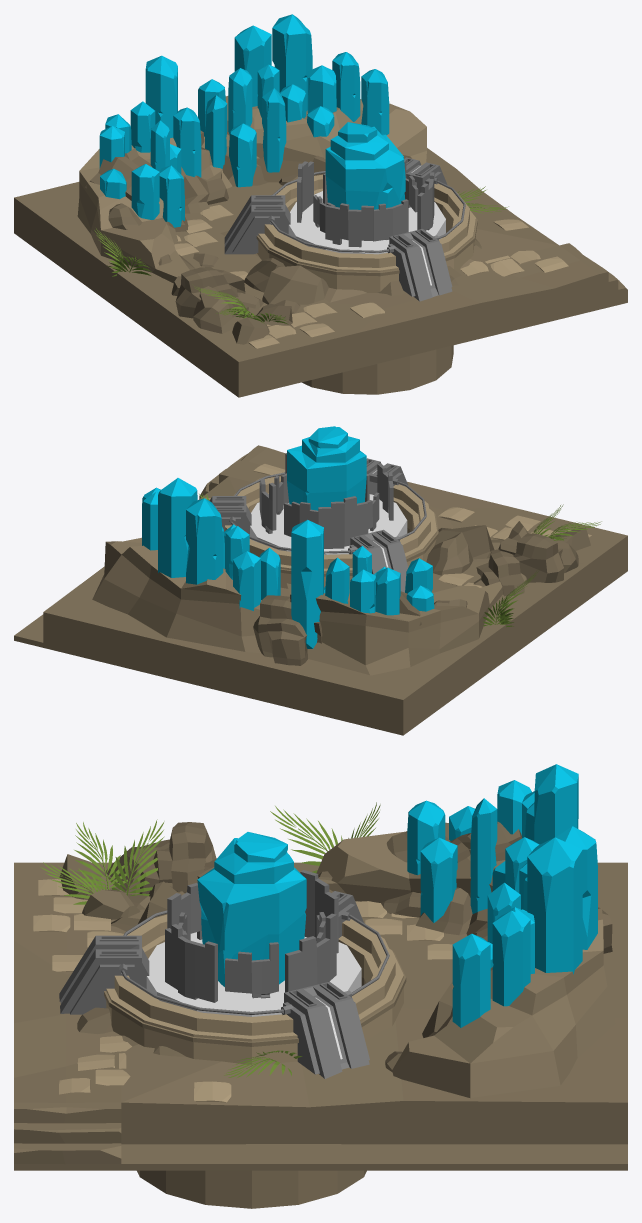
File: 054-fantasy-crystals.fbx
3 renders of one model, top to bottom at view 1: azimuth 30°, elevation 25°; view 2: azimuth 150°, elevation 25°; view 3: azimuth 270°, elevation 25°, orthographic. The views are drawn at different scales.
Visible parts, largest first — view 1: Plane.001, Plane, Circle, Cube, Cylinder, Ground, Circle.004, Cylinder.008, Fog, Circle.003, BigRock2.020, BigRock3.000 (+29 smaller); view 2: Plane.001, Plane, Cylinder, Ground, Circle.004, Circle, Cylinder.003, Cube, BigRock3.001, Cylinder.008, Cylinder.006, BigRock3.000 (+18 smaller); view 3: Plane.001, Plane, Ground, Circle, Cylinder, Cube, Circle.004, Cylinder.008, Fog, Cylinder.019, Cylinder.020, BigRock3.000 (+27 smaller).
Boxes of the visible parts, x1,y1,x2,y2 form: Plane.001: (14, 148, 627, 394); Plane: (77, 96, 426, 283); Circle: (257, 174, 475, 292); Cube: (224, 157, 452, 301); Cylinder: (325, 122, 405, 209); Ground: (14, 192, 627, 397); Circle.004: (297, 160, 434, 247); Cylinder.008: (272, 14, 312, 111); Fog: (288, 191, 445, 254); Circle.003: (313, 173, 418, 241); BigRock2.020: (262, 265, 328, 304); BigRock3.000: (175, 266, 245, 318); Plane.001: (43, 445, 627, 730); Plane: (92, 537, 502, 675); Cylinder: (287, 426, 366, 510); Ground: (14, 566, 627, 735); Circle.004: (259, 453, 393, 548); Circle: (225, 476, 436, 588); Cylinder.003: (291, 520, 323, 648); Cube: (209, 458, 408, 592); BigRock3.001: (253, 595, 322, 665); Cylinder.008: (158, 478, 197, 577); Cylinder.006: (186, 498, 223, 584); BigRock3.000: (498, 533, 564, 582); Plane.001: (14, 862, 627, 1208); Plane: (316, 822, 614, 1098); Ground: (14, 1144, 627, 1170); Circle: (106, 914, 403, 1065); Cylinder: (197, 832, 306, 986); Cube: (59, 891, 369, 1078); Circle.004: (165, 870, 338, 1002); Cylinder.008: (527, 837, 582, 974); Fog: (146, 932, 361, 1016); Cylinder.019: (492, 910, 530, 1006); Cylinder.020: (452, 933, 490, 1027); BigRock3.000: (139, 822, 216, 893).
Size of what is drawn, in the model's own units: 8.27 by 4.97 by 8.
